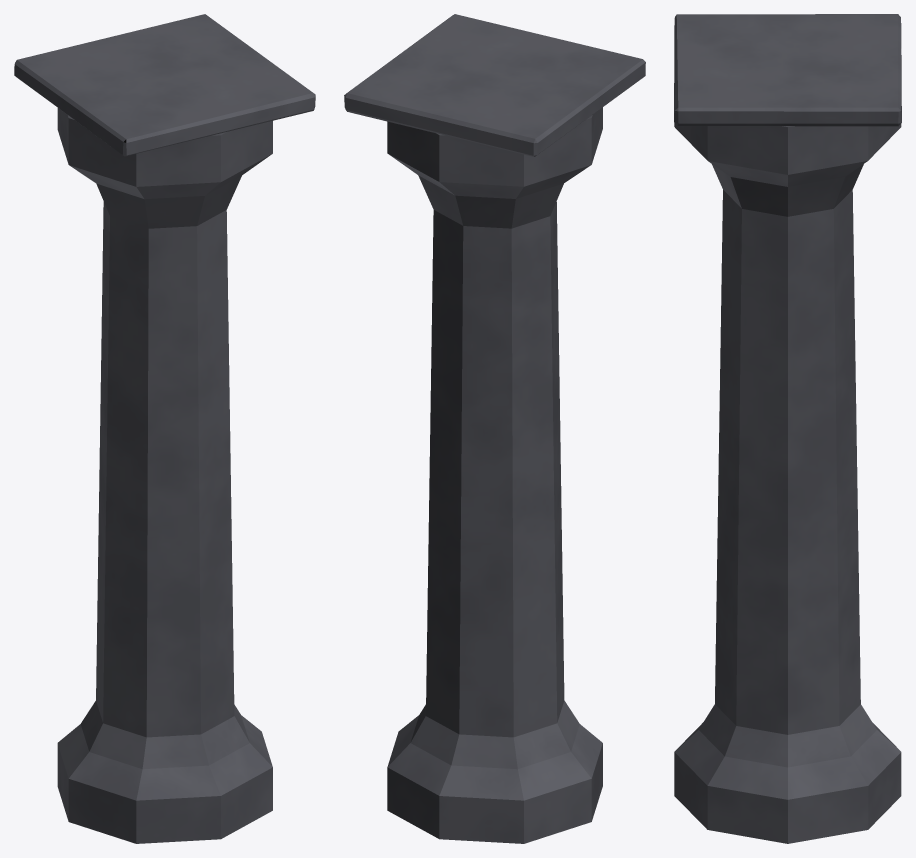
The model's file is pillar.glb.
3 views of the same model, side by side, from view 1: azimuth 30°, elevation 25°; view 2: azimuth 150°, elevation 25°; view 3: azimuth 270°, elevation 25° (orthographic).
Visible parts, largest first — view 1: pillar; view 2: pillar; view 3: pillar.
Part boxes in pixels (box(x1,y1,x2,y2)): pillar: box(14, 14, 315, 843); pillar: box(344, 14, 645, 843); pillar: box(674, 14, 901, 843).
Size of the model in its own units: 0.5605 by 2 by 0.5619.
Materials: 1 (1 with a texture image).
